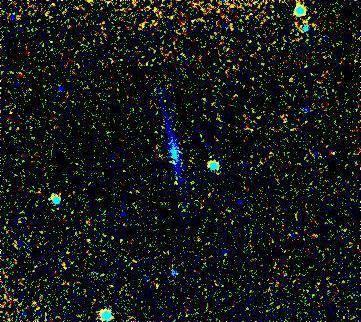star: (163, 169, 193, 199)
